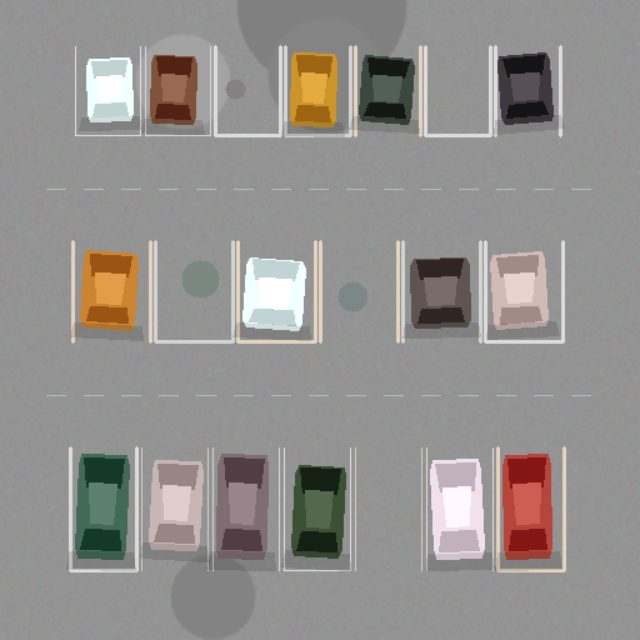space-empty: (355, 448, 421, 570), (320, 241, 398, 341), (155, 241, 232, 341), (215, 46, 280, 135), (425, 46, 490, 135)
space-occupied: (141, 448, 208, 570), (212, 448, 279, 570), (70, 448, 136, 570), (284, 448, 350, 570), (426, 448, 492, 570), (498, 448, 564, 570), (72, 241, 150, 341), (402, 241, 480, 341), (238, 241, 315, 341), (485, 241, 562, 341), (75, 46, 140, 135), (145, 46, 210, 135), (285, 46, 350, 135), (355, 46, 420, 135), (495, 46, 560, 135)
